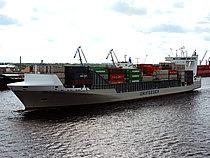Ship: (5, 43, 206, 116)
